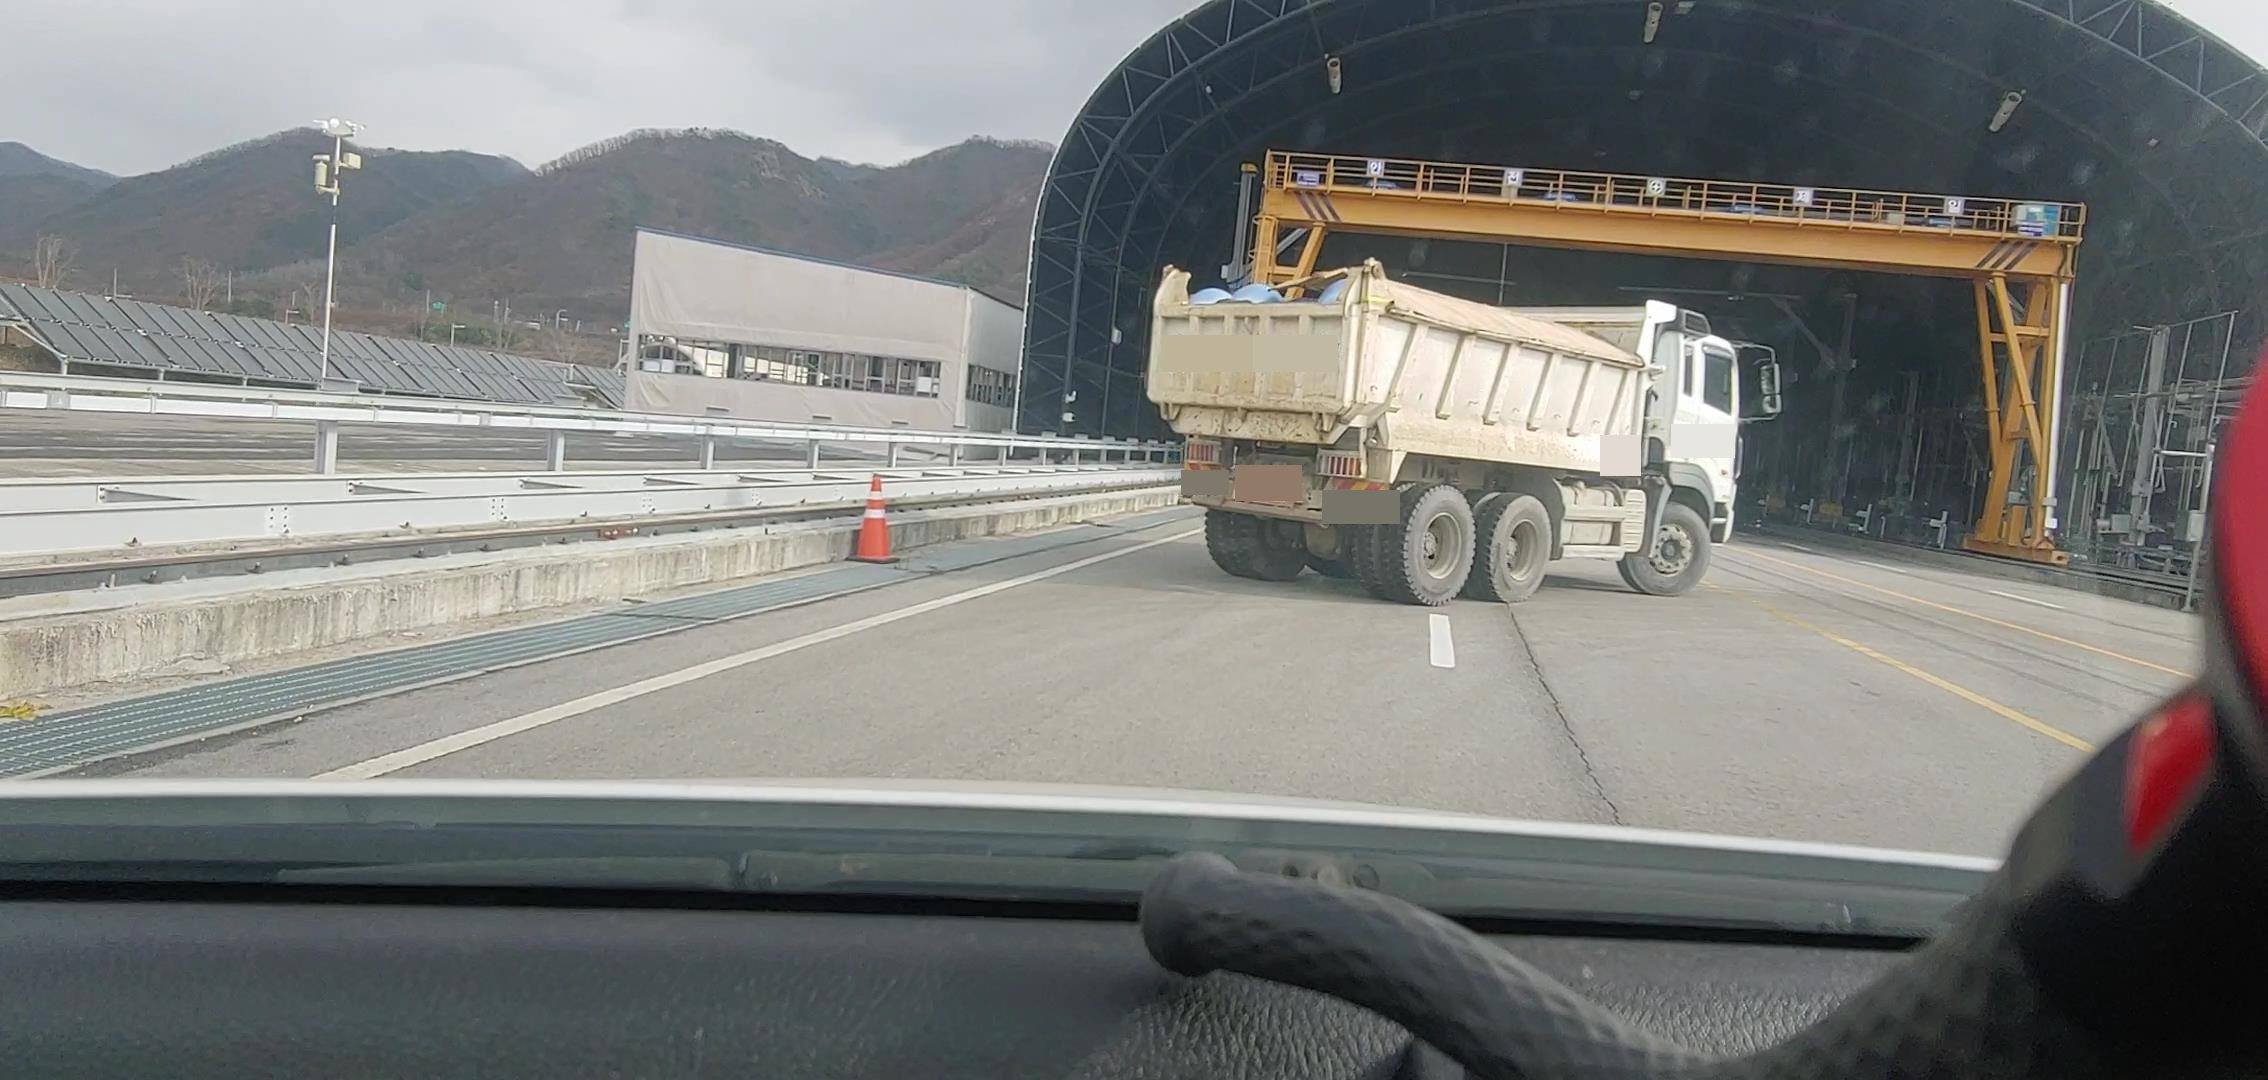불법차량: (1145, 256, 1783, 608)
